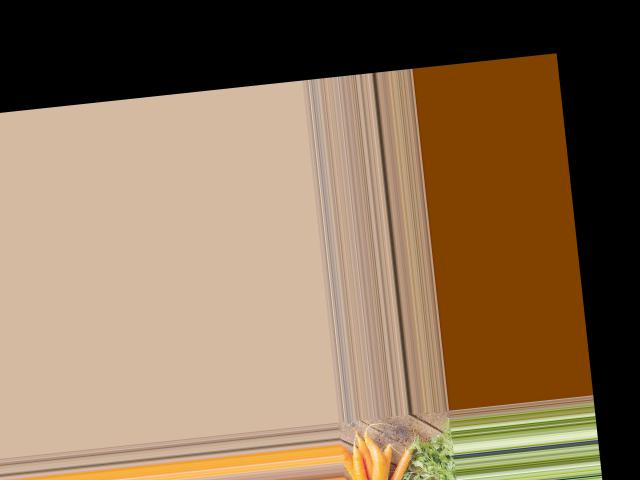carrot: (343, 478, 368, 480)
